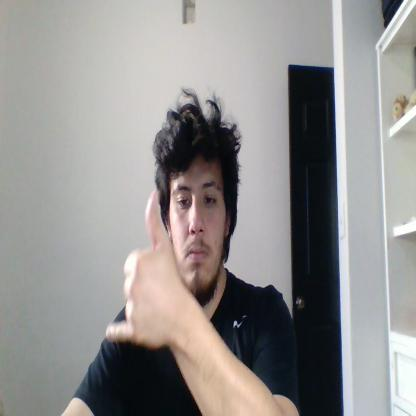Y: (105, 192, 178, 347)
